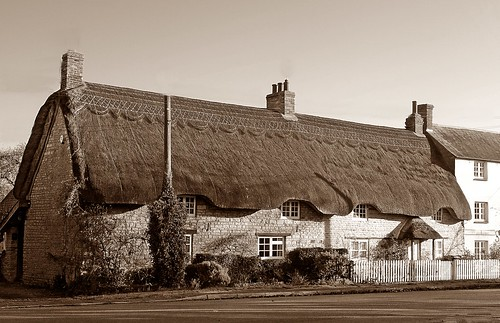medium: (9, 47, 473, 293)
